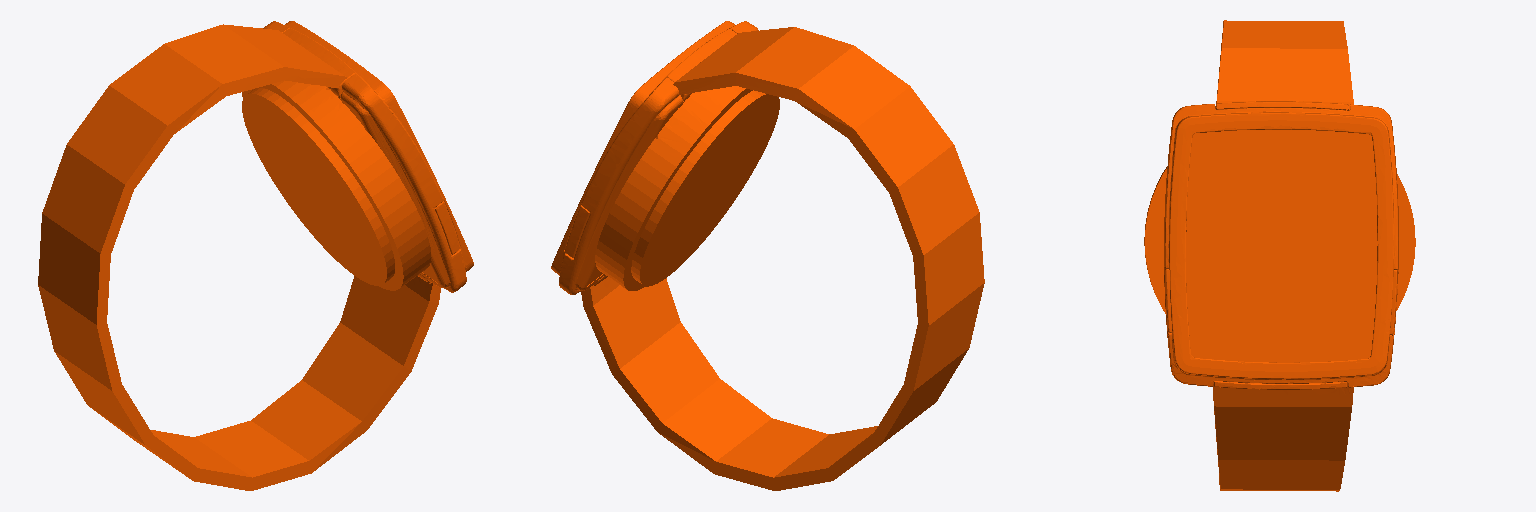
robot.urdf — wristwatch:
<?xml version="1.0" ?>
<robot name="wristwatch">
   <material name="obj_color">
      <color rgba="1.0 0.423529411765 0.0392156862745 1.0"/>
   </material>
   <link name="top">
      <inertial>
         <origin rpy="2.585289281668527e-05 3.055436585765863e-05 4.472472388050561e-05" xyz="0.01052839715274069 9.733218963989238e-05 0.007118093701544993"/>
         <mass value="0.05522823125260085"/>
         <inertia ixx="3.043027425398735e-05" ixy="3.925926878856352e-08" ixz="-7.54311298971586e-07" iyy="4.472393409850129e-05" iyz="-1.108773228393027e-07" izz="2.597777420236088e-05"/>
      </inertial>
      <visual>
         <origin rpy="0 0 0" xyz="0 0 0"/>
         <geometry>
            <mesh filename="top_watertight_tiny.stl" scale="1 1 1"/>
         </geometry>
         <material name="obj_color"/>
      </visual>
      <collision>
         <origin rpy="0 0 0" xyz="0 0 0"/>
         <geometry>
            <mesh filename="top_watertight_tiny.obj" scale="1 1 1"/>
         </geometry>
      </collision>
   </link>
   <link name="bottom">
      <inertial>
         <origin rpy="1.633333333194242e-08 1.633333333194243e-08 1.633333333357667e-08" xyz="0.3464080000000008 0.3464080000000008 0.3464080000000008"/>
         <mass value="0.0009800000000000017"/>
         <inertia ixx="1.633333333248717e-08" ixy="5.447480642029219e-19" ixz="5.447480642029219e-19" iyy="1.633333333248717e-08" iyz="5.447480642029219e-19" izz="1.633333333248717e-08"/>
      </inertial>
      <visual>
         <origin rpy="0 0 0" xyz="0 0 0"/>
         <geometry>
            <mesh filename="bottom_watertight_tiny.stl" scale="1 1 1"/>
         </geometry>
         <material name="obj_color"/>
      </visual>
   </link>
   <joint name="rotation" type="revolute">
      <origin xyz="0 0 0"/>
      <axis xyz="0 0 -1"/>
      <parent link="bottom"/>
      <child link="top"/>
      <dynamics damping="1.0" friction="1.0"/>
      <limit effort="0.1" velocity="0.1" lower="0" upper="0.001"/>
   </joint>
</robot>

--- Facts derived from the render (not from the file) ---
Views: 3 orthographic renders of the robot side by side, from view 1: azimuth 30°, elevation 25°; view 2: azimuth 150°, elevation 25°; view 3: azimuth 270°, elevation 25°.
Robot: wristwatch — 2 links, 1 joints (1 revolute); root link bottom; default pose: every joint at zero.
Visible links, largest first — view 1: top; view 2: top; view 3: top.
Boxes of the visible links, x1=… form: top: x1=38, y1=21, x2=473, y2=490; top: x1=551, y1=21, x2=984, y2=490; top: x1=1144, y1=20, x2=1415, y2=491.
Size in the robot's own frame: 0.0753 by 0.0469 by 0.0827 metres.
1 mesh visuals loaded from 2 distinct referenced files (1 binary STL); not drawn: 1 (reference not matched to a file when rendering).
